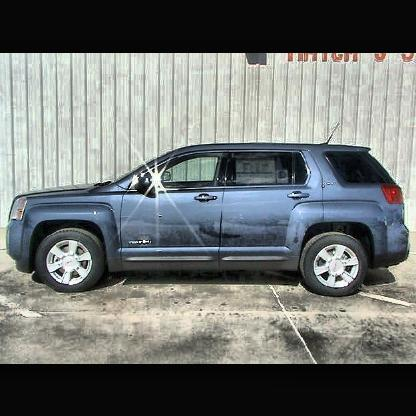GMC Terrain SUV 2012: (6, 121, 413, 297)
